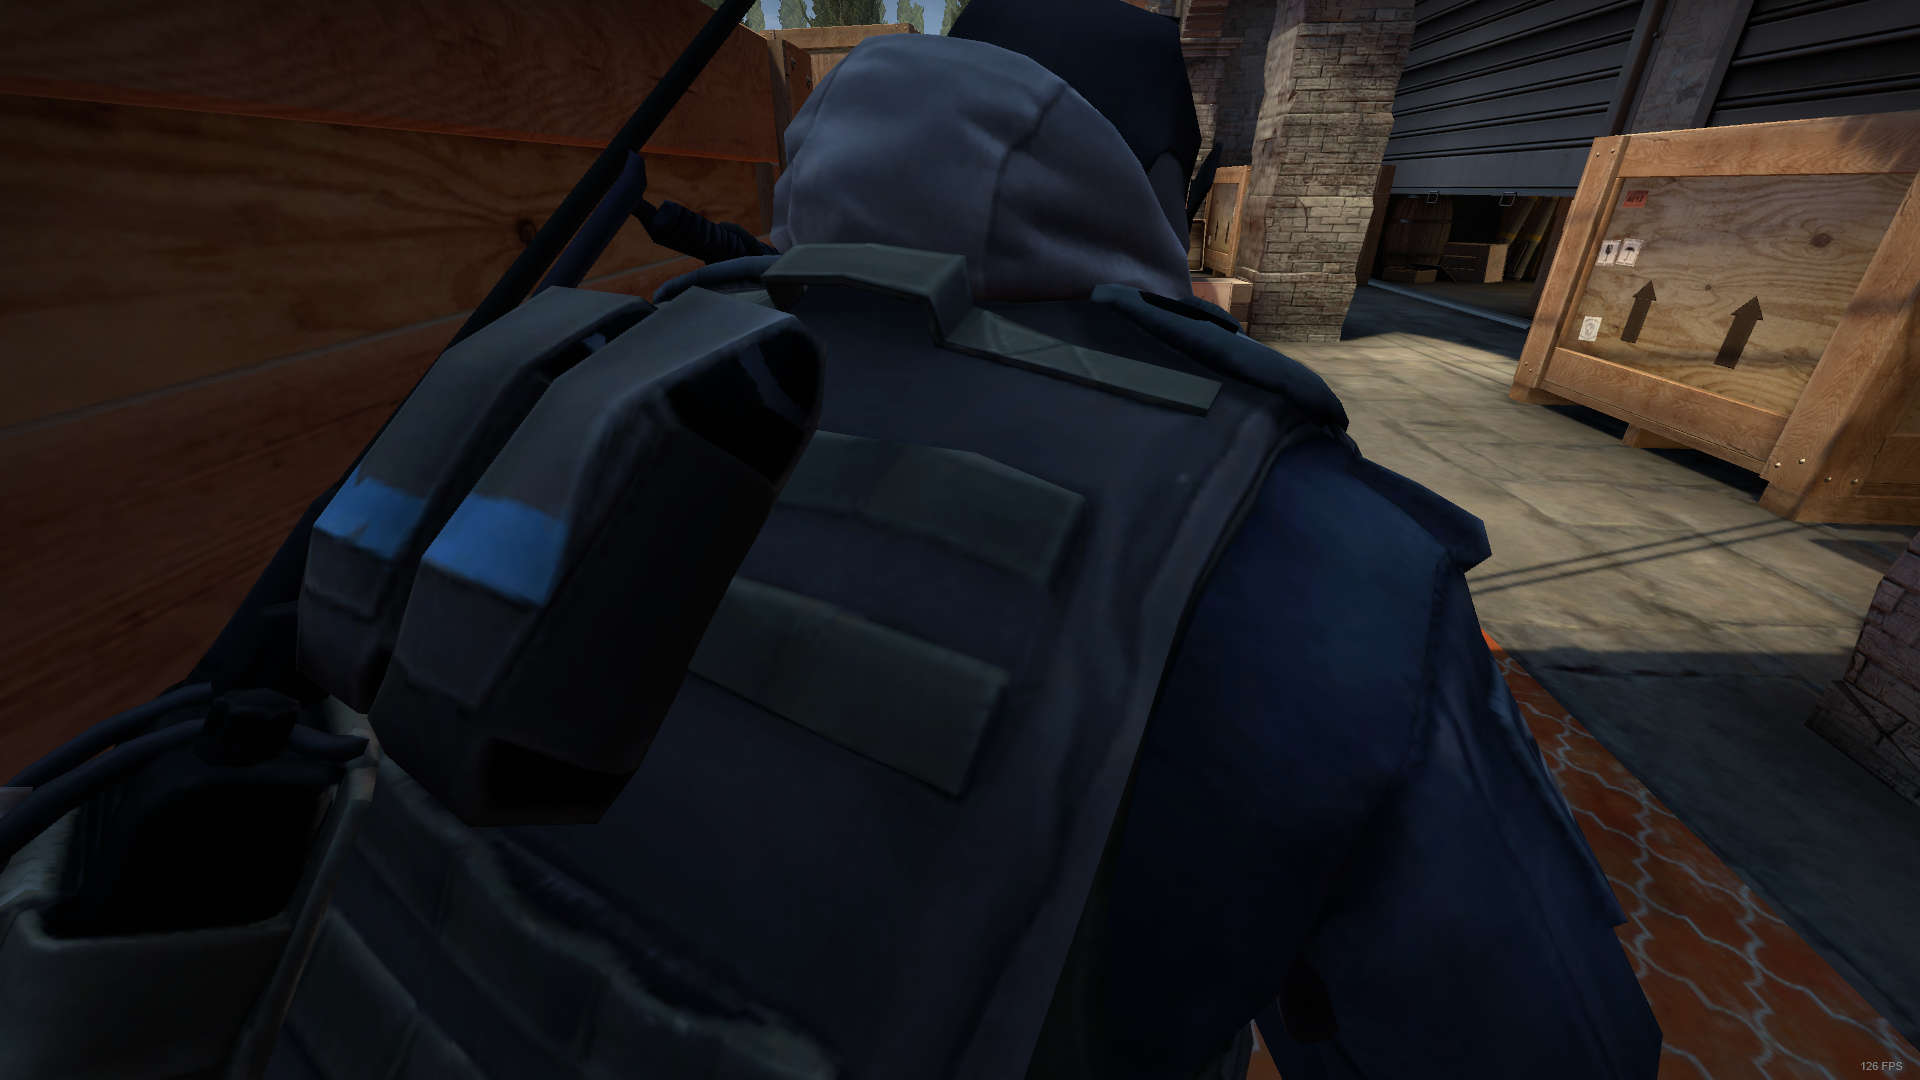ct: (1, 11, 1658, 1080)
